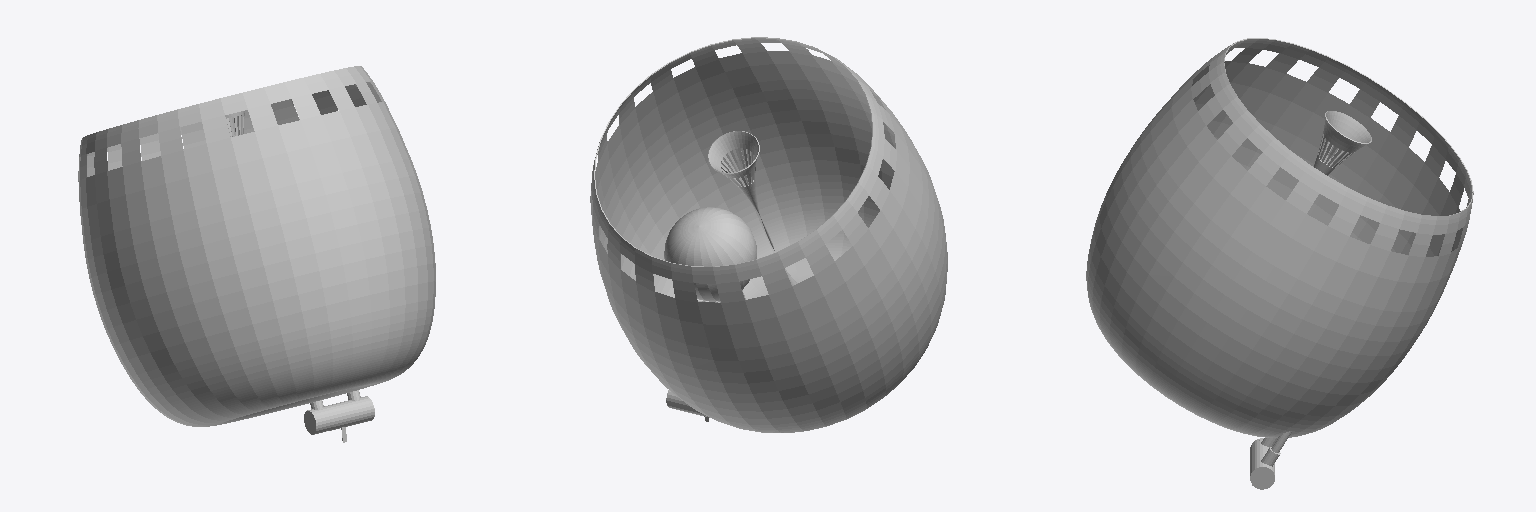
File: lamp(head).obj
3 views of the same model, side by side, from view 1: azimuth 30°, elevation 25°; view 2: azimuth 150°, elevation 25°; view 3: azimuth 270°, elevation 25° (orthographic).
Parts seen in each view (by area): view 1: Shape27; view 2: Shape27; view 3: Shape27.
Part boxes in pixels (bbox=[...]): Shape27: bbox=[78, 66, 435, 442]; Shape27: bbox=[590, 37, 947, 432]; Shape27: bbox=[1086, 38, 1473, 489].
Bounding box in the file's own units: 278 × 345 × 312.